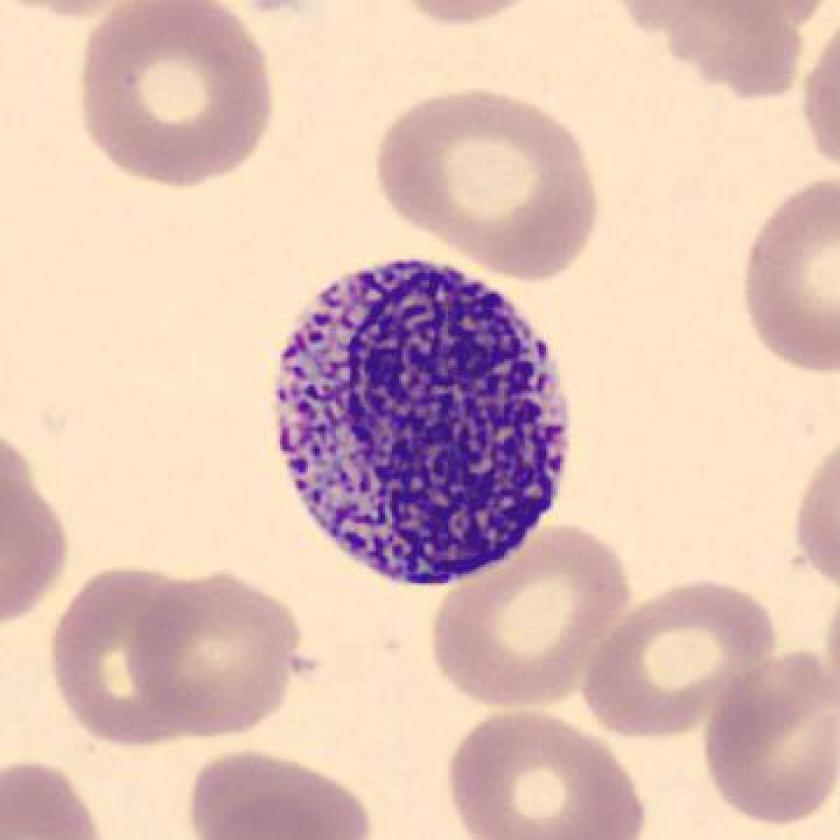basophil: (260, 235, 582, 600)
